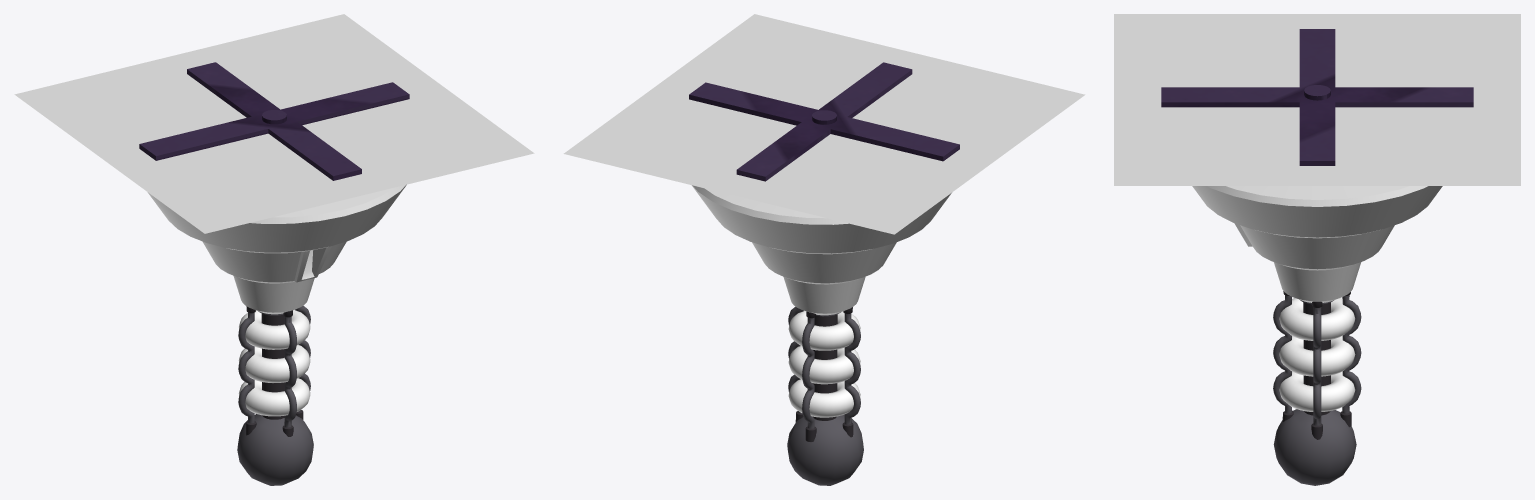
Rendered from shockdroneamalgam 1.fbx.
3 renders of one model, left to right at view 1: azimuth 30°, elevation 25°; view 2: azimuth 150°, elevation 25°; view 3: azimuth 270°, elevation 25°, orthographic. The views are drawn at different scales.
Visible parts, largest first — view 1: ShockDronePropeller, Main, PropellerModel, CoilBase, Coils; view 2: ShockDronePropeller, Main, PropellerModel, CoilBase, Coils; view 3: ShockDronePropeller, Main, PropellerModel, CoilBase, Coils.
Boxes of the visible parts, x1=… form: ShockDronePropeller: x1=14, y1=14, x2=534, y2=233; Main: x1=147, y1=184, x2=406, y2=314; PropellerModel: x1=139, y1=62, x2=409, y2=180; CoilBase: x1=237, y1=305, x2=313, y2=485; Coils: x1=238, y1=310, x2=310, y2=416; ShockDronePropeller: x1=563, y1=14, x2=1085, y2=234; Main: x1=691, y1=185, x2=951, y2=315; PropellerModel: x1=689, y1=62, x2=959, y2=181; CoilBase: x1=787, y1=306, x2=863, y2=485; Coils: x1=788, y1=311, x2=860, y2=417; ShockDronePropeller: x1=1114, y1=14, x2=1520, y2=185; Main: x1=1192, y1=186, x2=1442, y2=302; PropellerModel: x1=1161, y1=29, x2=1473, y2=165; CoilBase: x1=1273, y1=291, x2=1361, y2=485; Coils: x1=1279, y1=298, x2=1355, y2=411.
Size of the model in its own units: 5.18 by 5.5 by 5.18.
